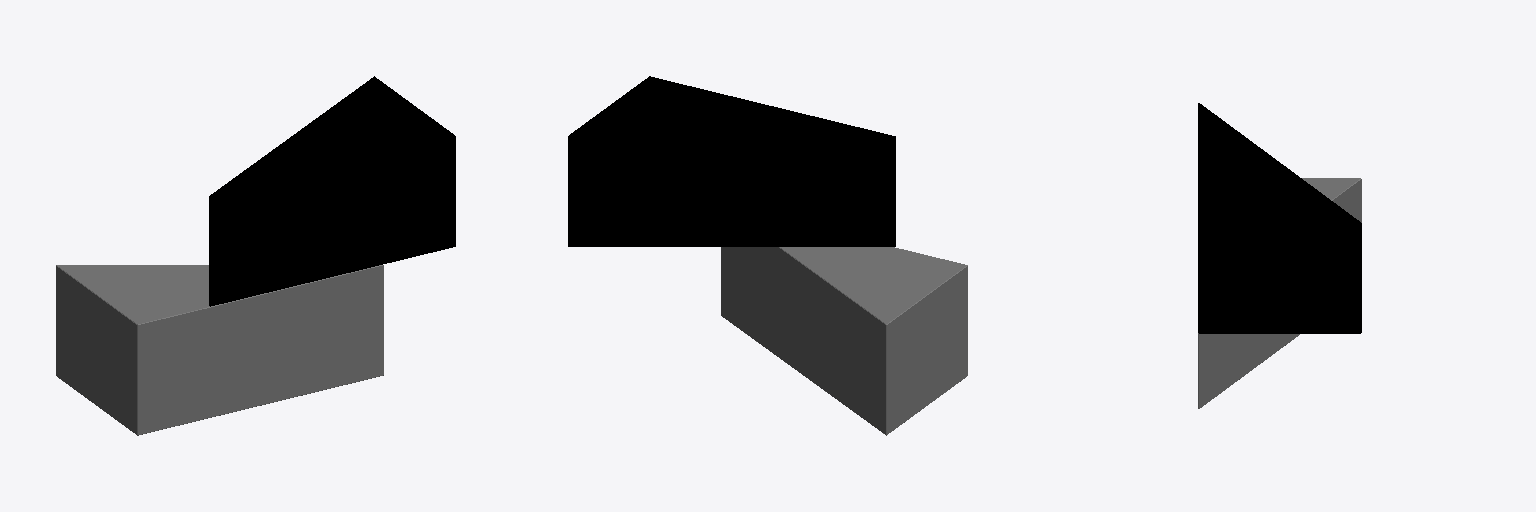
File: Areti_Triangle_obj.obj
The picture shows the model from 3 angles: view 1: azimuth 30°, elevation 25°; view 2: azimuth 150°, elevation 25°; view 3: azimuth 270°, elevation 25°; orthographic projection.
Visible parts, largest first — view 1: Areti_Triangle; view 2: Areti_Triangle; view 3: Areti_Triangle.
Part boxes in pixels (x1,y1,x2,y2): Areti_Triangle: (56,76,455,435); Areti_Triangle: (568,76,967,435); Areti_Triangle: (1198,103,1361,408).
Size of the model in its own units: 90 by 60 by 39.93.